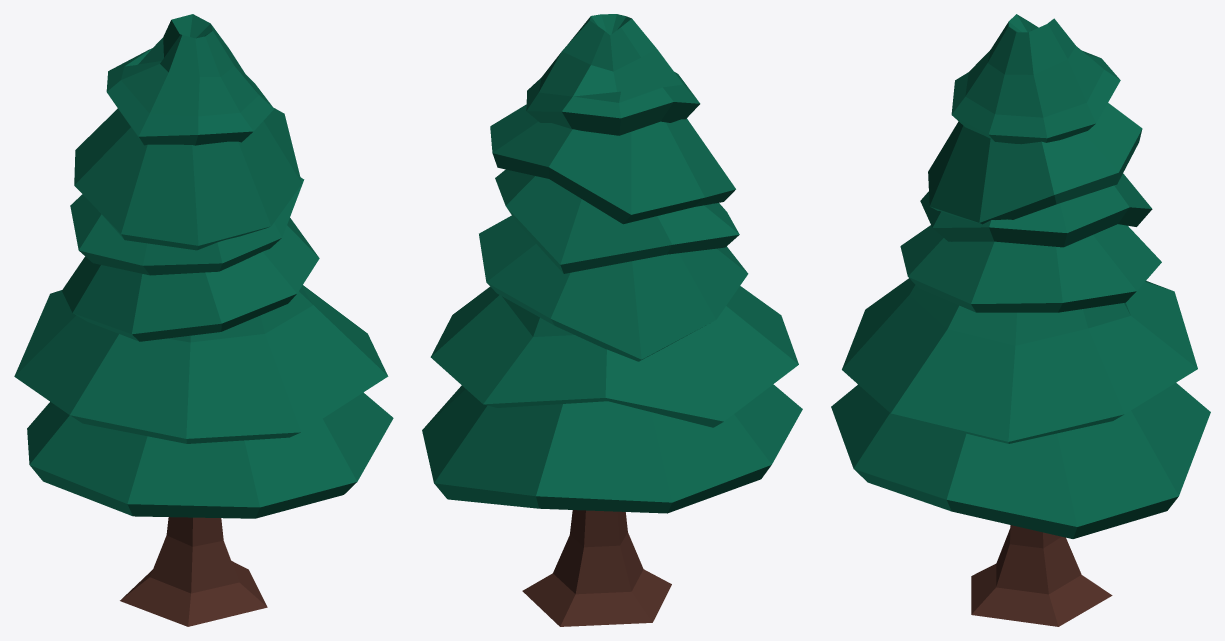
The model's file is tree_2.fbx.
The picture shows the model from 3 angles, left to right: view 1: azimuth 30°, elevation 25°; view 2: azimuth 150°, elevation 25°; view 3: azimuth 270°, elevation 25°; orthographic projection.
Parts seen in each view (by area): view 1: Tree_Bottom1, Tree_Bottom1.001; view 2: Tree_Bottom1, Tree_Bottom1.001; view 3: Tree_Bottom1, Tree_Bottom1.001.
Part boxes in pixels (<box>): Tree_Bottom1: <box>14,14,393,518</box>; Tree_Bottom1.001: <box>120,517,267,626</box>; Tree_Bottom1: <box>422,14,802,513</box>; Tree_Bottom1.001: <box>522,510,671,626</box>; Tree_Bottom1: <box>831,14,1210,538</box>; Tree_Bottom1.001: <box>971,525,1112,626</box>.
Bounding box in the file's own units: 192 × 322 × 193.
